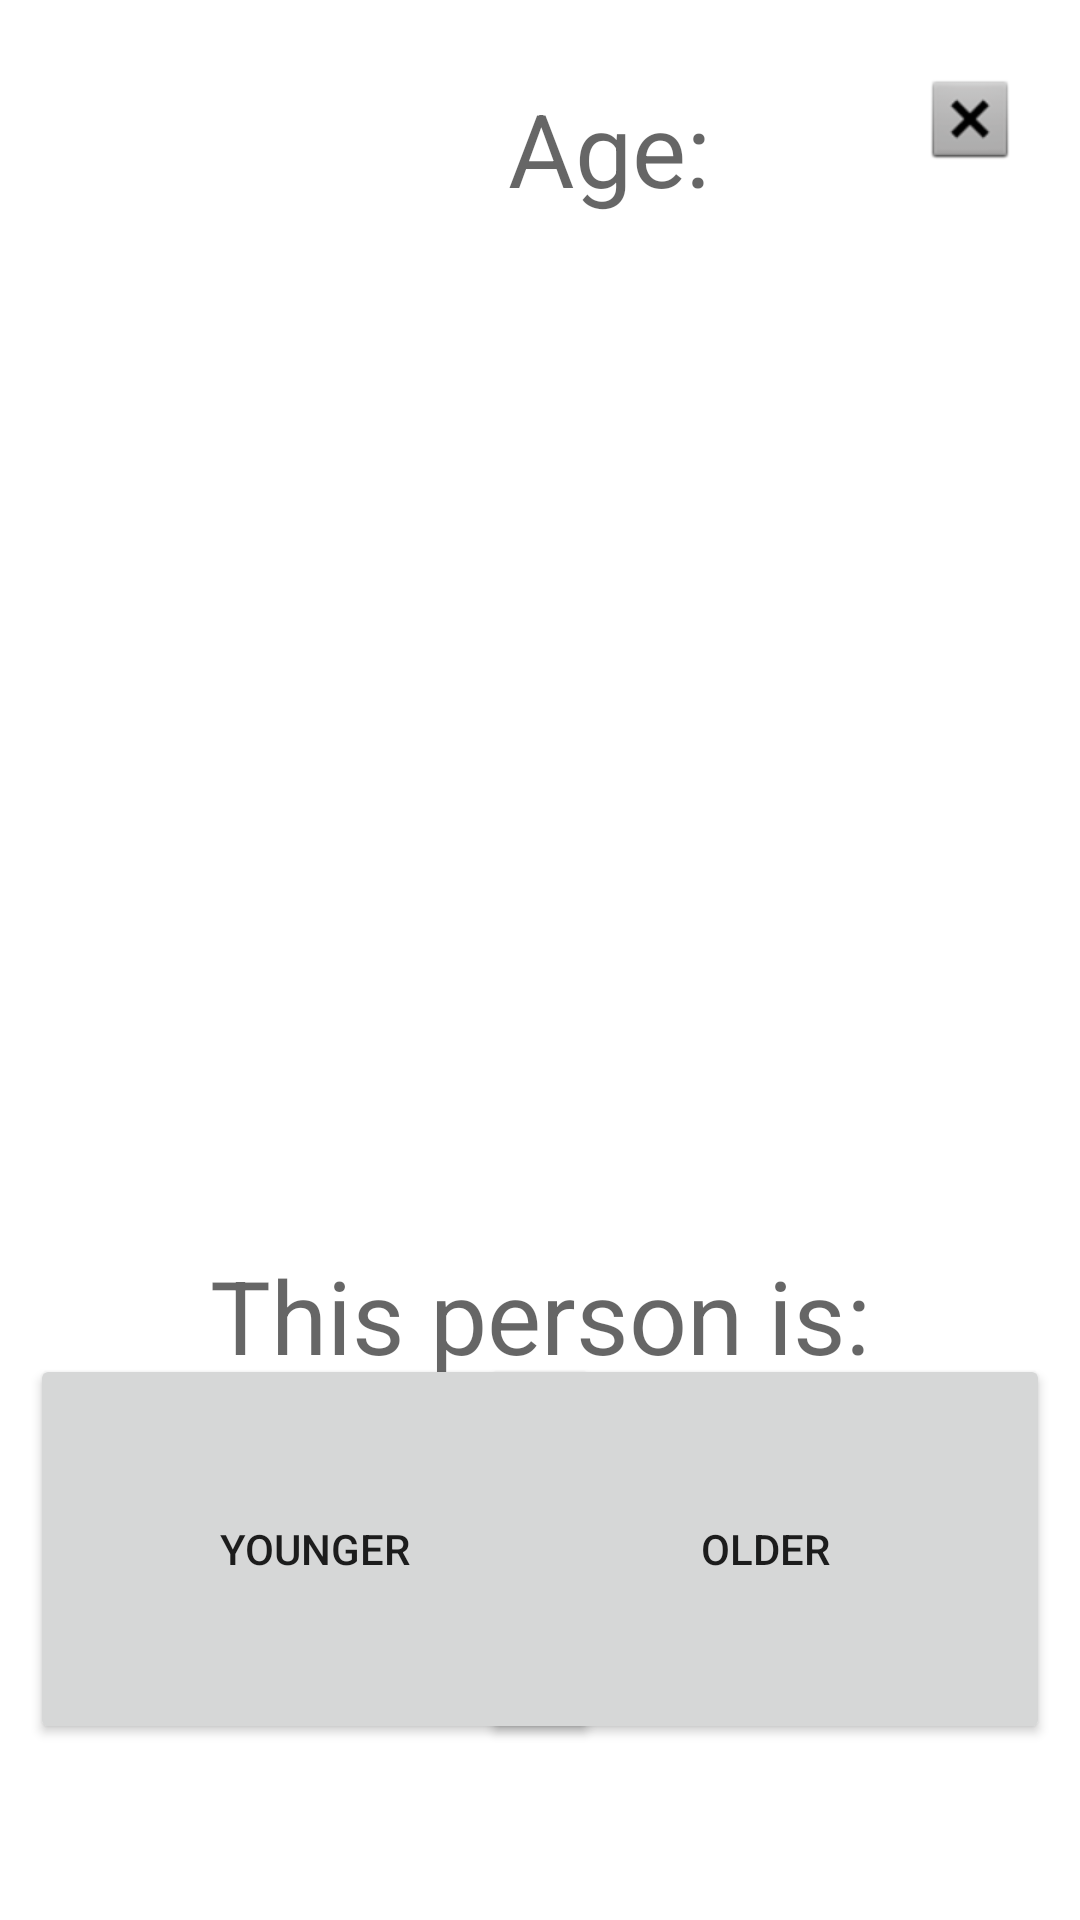

Where icons sit on this 1080 x 1920 app screen, as (x1, y1, x2, y2):
Exit to home: (931, 81, 1009, 158)
